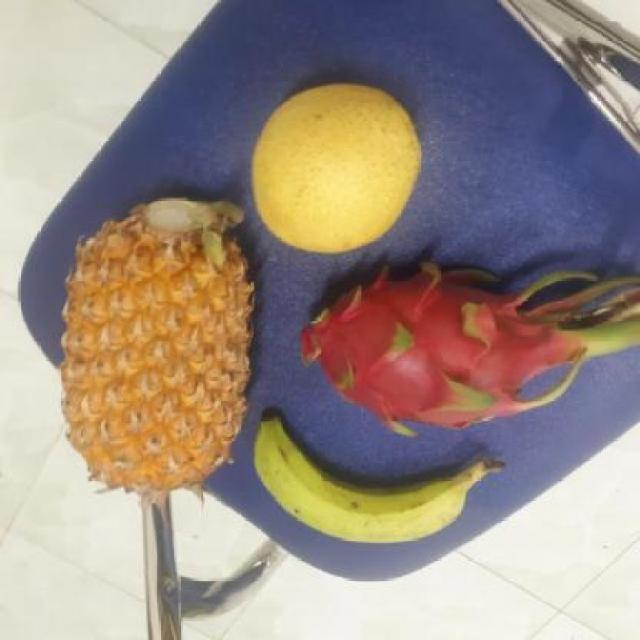banana: (251, 417, 478, 545)
dragon fruit: (275, 262, 557, 433)
pear: (248, 83, 424, 255)
pineapple: (59, 190, 258, 490)
